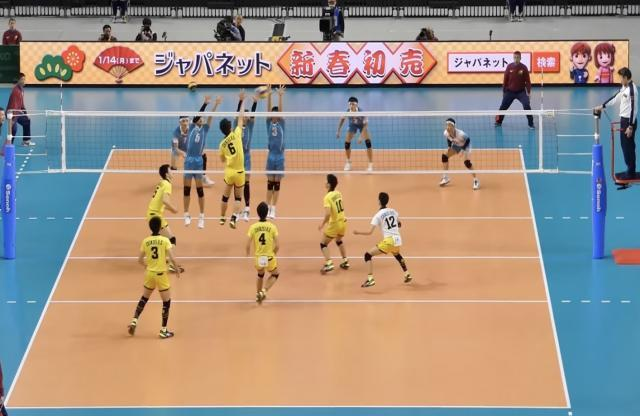spike: (216, 80, 272, 230)
